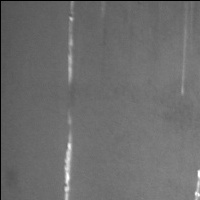scratches: (63, 1, 78, 86), (60, 120, 75, 200)
